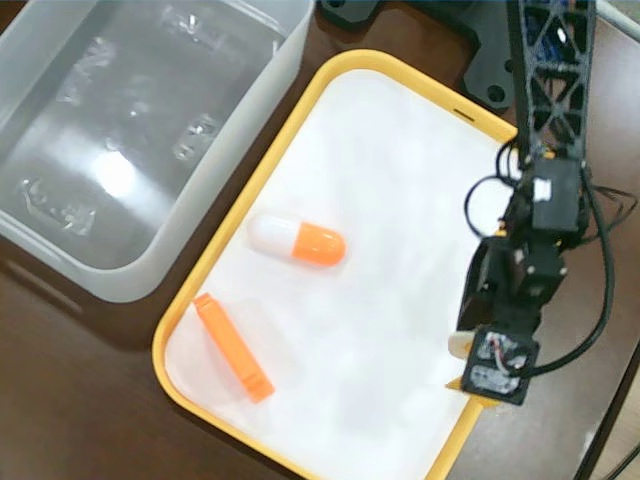pill: (248, 212, 347, 266)
